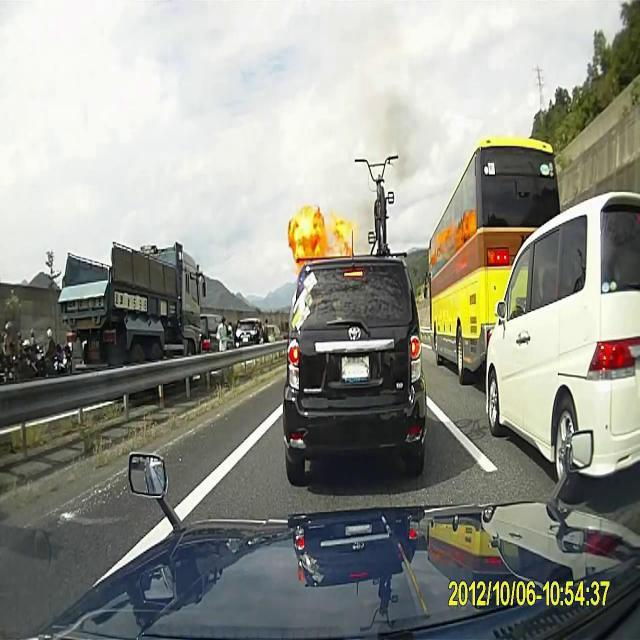Fire: (284, 189, 361, 263), (376, 80, 422, 188)
